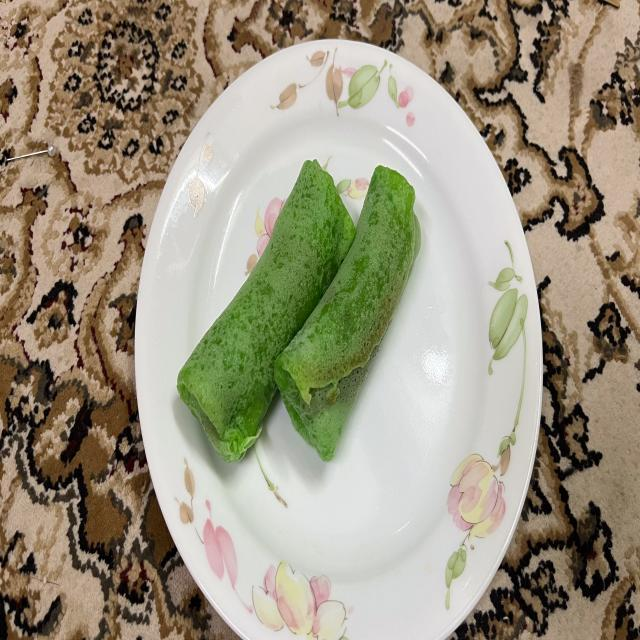Kuih-Ketayap: (178, 160, 355, 462), (274, 167, 421, 460)
